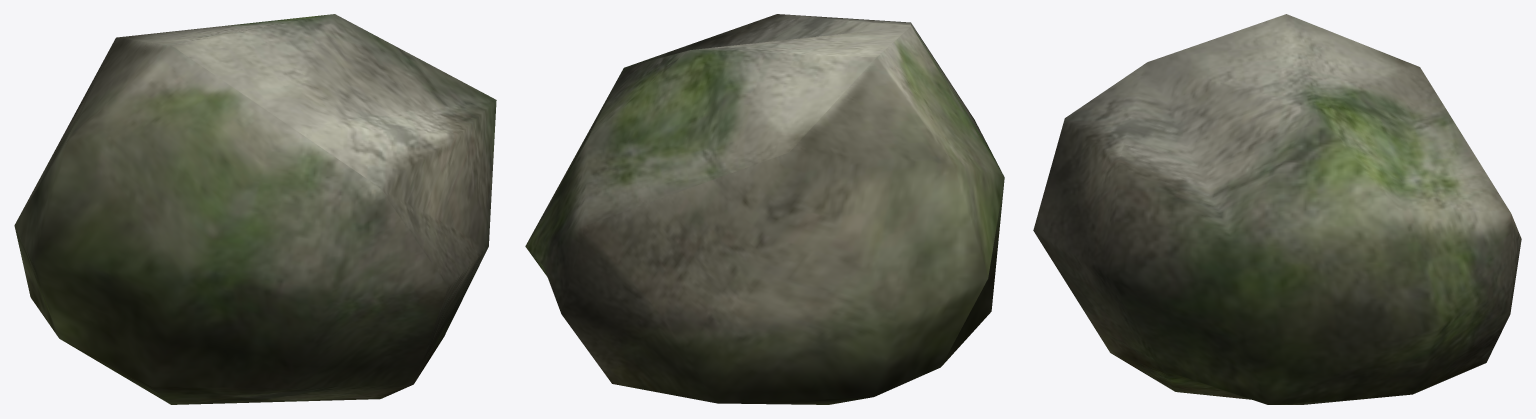
The model's file is rock_2_sphere.fbx.
3 renders of one model, left to right at view 1: azimuth 30°, elevation 25°; view 2: azimuth 150°, elevation 25°; view 3: azimuth 270°, elevation 25°, orthographic. The views are drawn at different scales.
Parts seen in each view (by area): view 1: rock_1; view 2: rock_1; view 3: rock_1.
Part boxes in pixels (left/top/right/bottom): rock_1: left=14, top=14, right=496, bottom=404; rock_1: left=525, top=14, right=1004, bottom=404; rock_1: left=1033, top=14, right=1521, bottom=404.
Size of the model in its own units: 446 by 359 by 491.
1 material, 1 textured.
